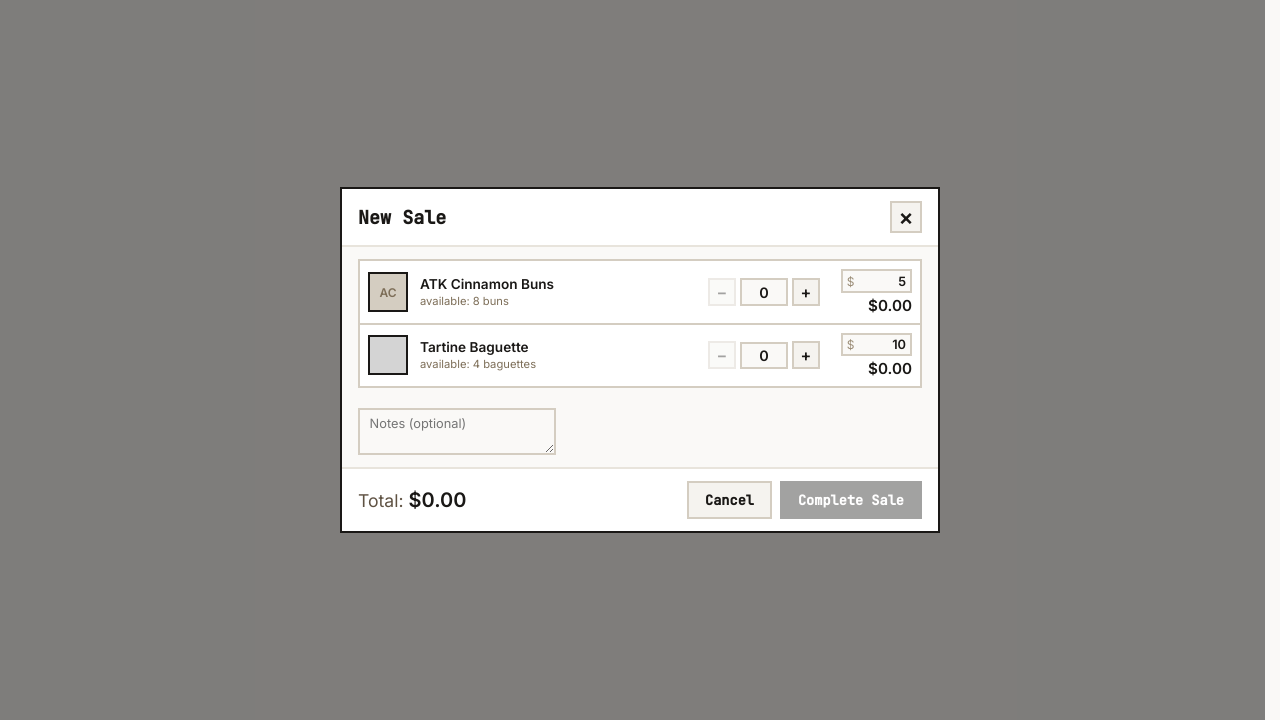
Test: NewSaleSheet › mixed cart sums correctly across recipes
This screenshot has width=1280, height=720.
Step 1. Click the button with test id "new-sale-inc-r1" → click(806, 292), box [792,278,820,306]
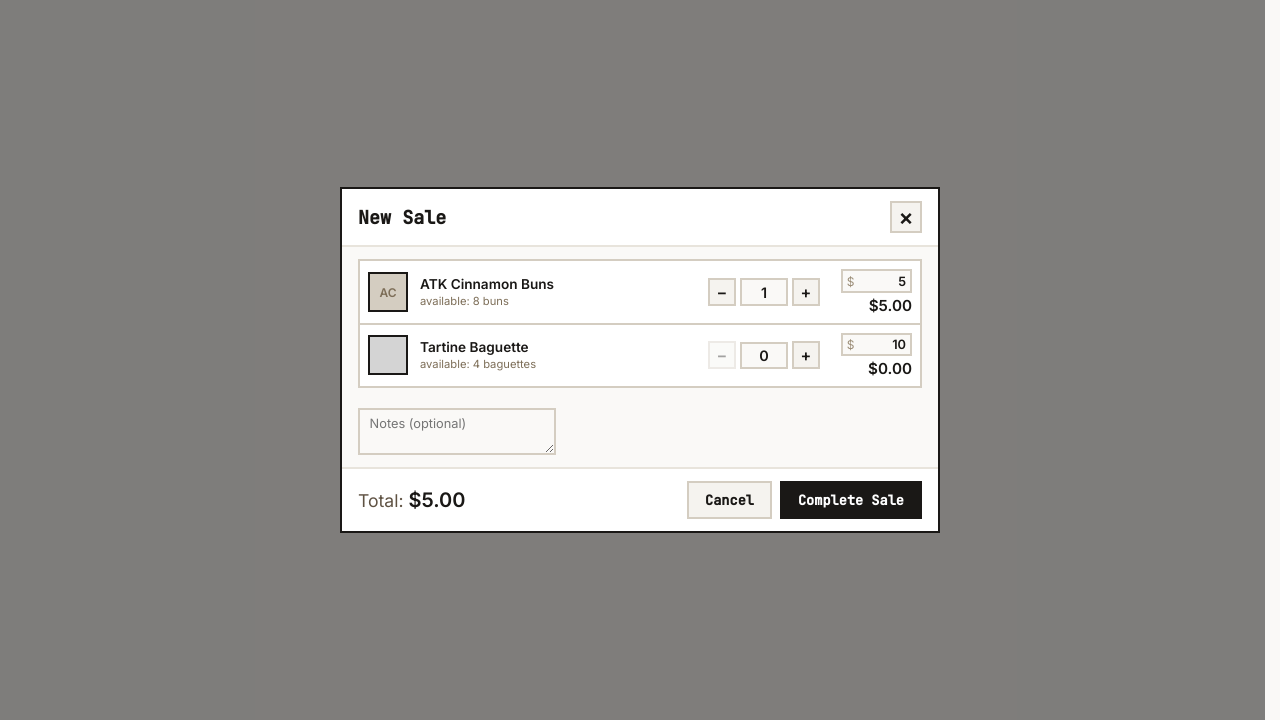
Step 2. Click the button with test id "new-sale-inc-r1" → click(806, 292), box [792,278,820,306]
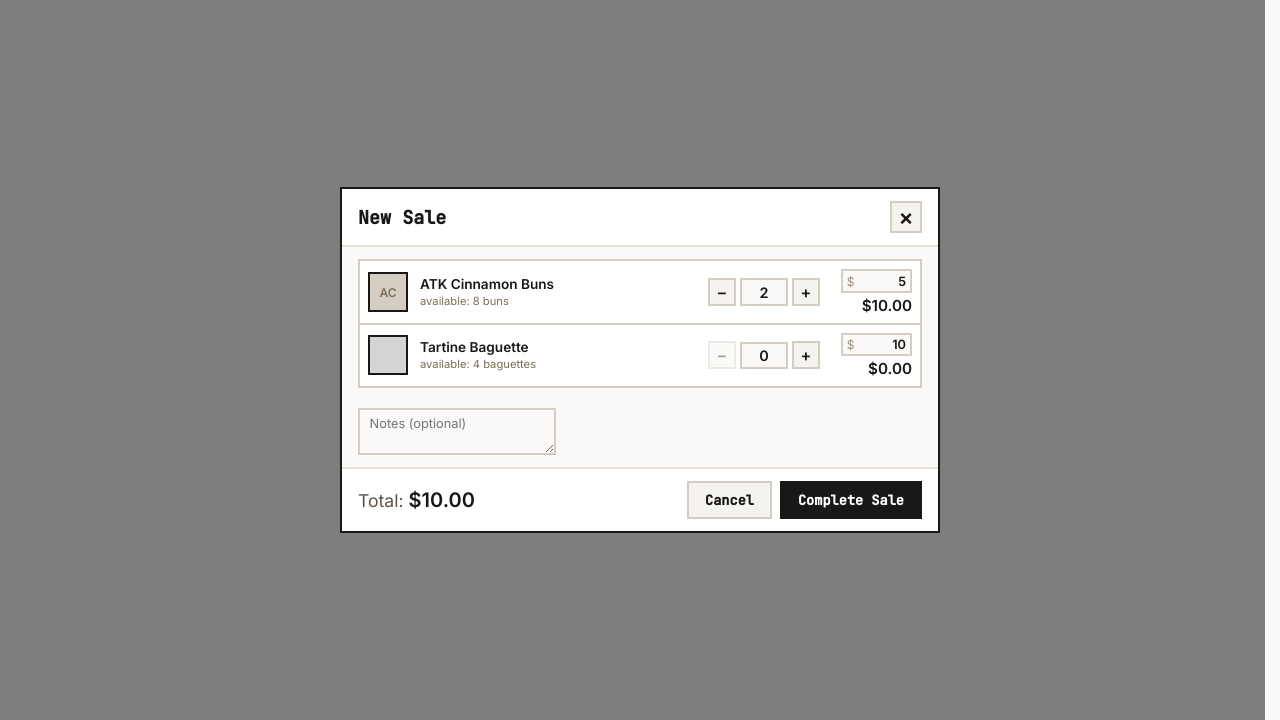
Step 3. Click the button with test id "new-sale-inc-r2" → click(806, 355), box [792,341,820,369]
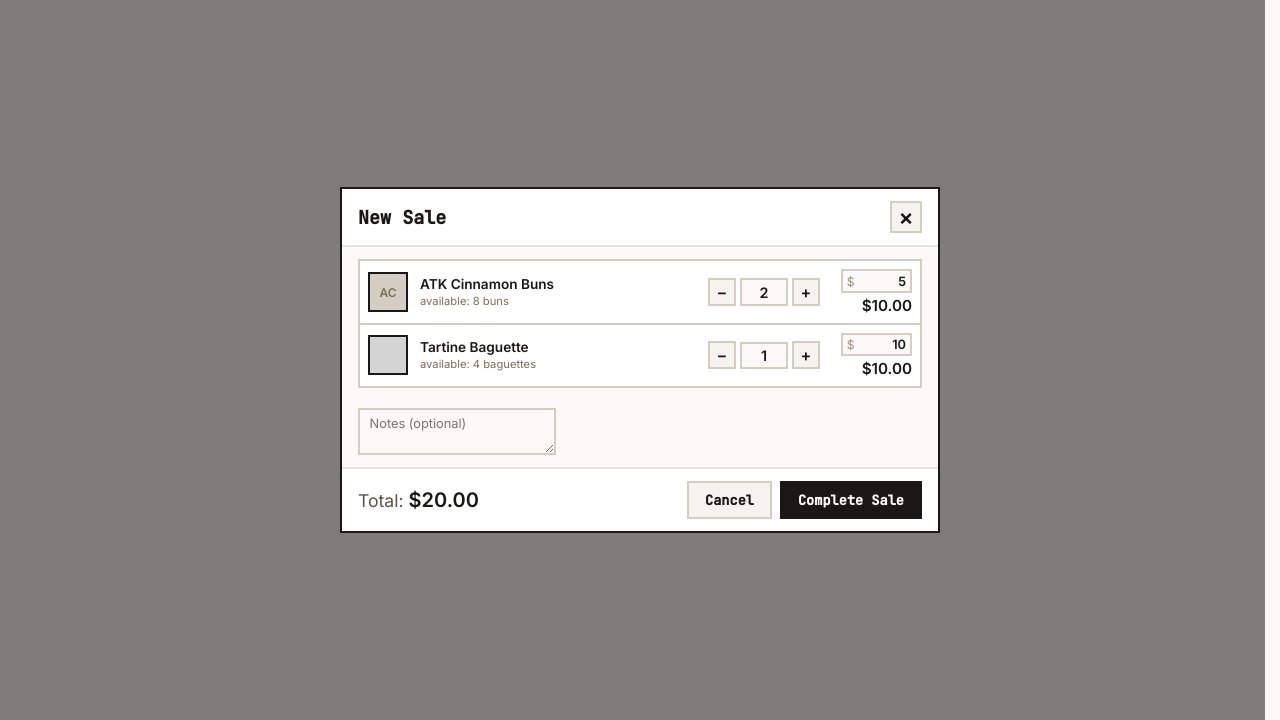
Expected: the element with test id "new-sale-total" shows "$20.00", [408,488,479,512]
